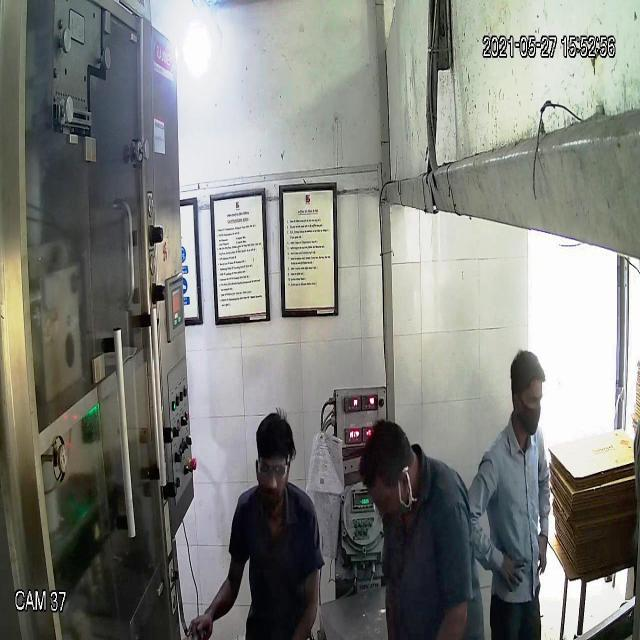glasses: (253, 453, 293, 481)
no-glass: (522, 389, 546, 411)
